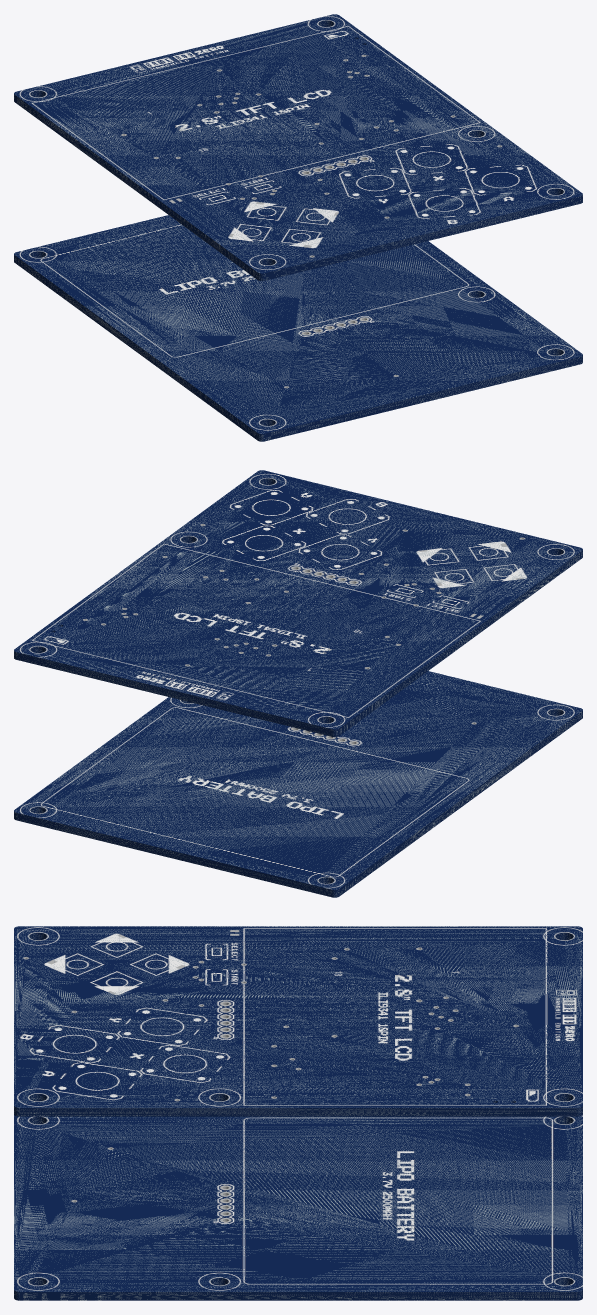
Rendered from gameboyzero-split-board.dae.
3 renders of one model, top to bottom at view 1: azimuth 30°, elevation 25°; view 2: azimuth 150°, elevation 25°; view 3: azimuth 270°, elevation 25°, orthographic. The views are drawn at different scales.
Parts seen in each view (by area): view 1: pcbgroup (×2), group_0 (×2); view 2: pcbgroup (×2), group_0 (×2); view 3: pcbgroup (×2), group_0 (×2).
Part boxes in pixels (x1,y1,x2,y2): pcbgroup (×2): (14, 14, 582, 281); group_0 (×2): (14, 215, 582, 441); pcbgroup (×2): (14, 470, 582, 737); group_0 (×2): (14, 671, 582, 897); pcbgroup (×2): (14, 926, 582, 1116); group_0 (×2): (14, 1115, 582, 1300).
Size of the model in its own units: 2795 by 3701 by 1384.
Materials: 11 (4 with a texture image).
